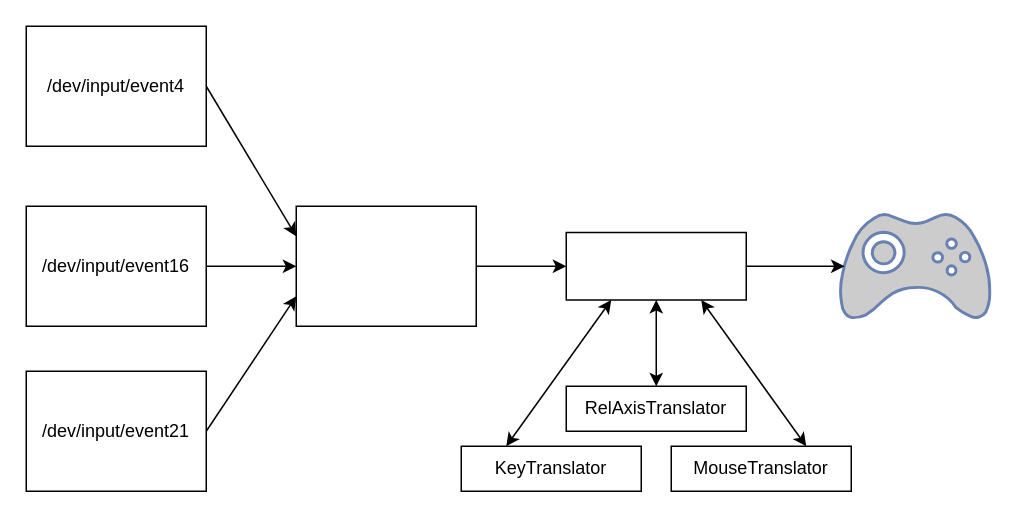
This 1017x518 diagram has some shape labels left out. Here are the shapes that lost their labels. From the top down, the box of each, then its label:
(295, 205, 476, 326): mpsc queue
(565, 231, 746, 300): EventHandler
